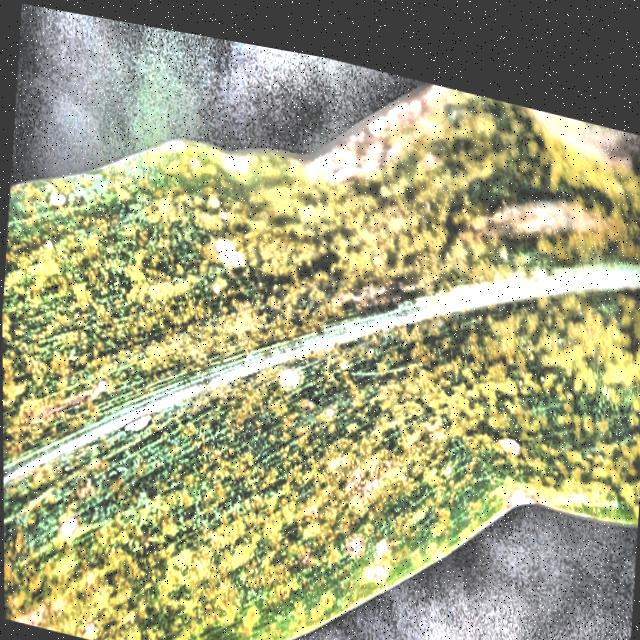common_rust: (0, 1, 640, 640)
